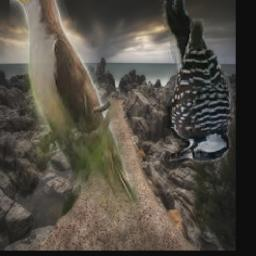Cuckoo: (10, 0, 153, 234)
Woodpecker: (159, 0, 235, 166)
